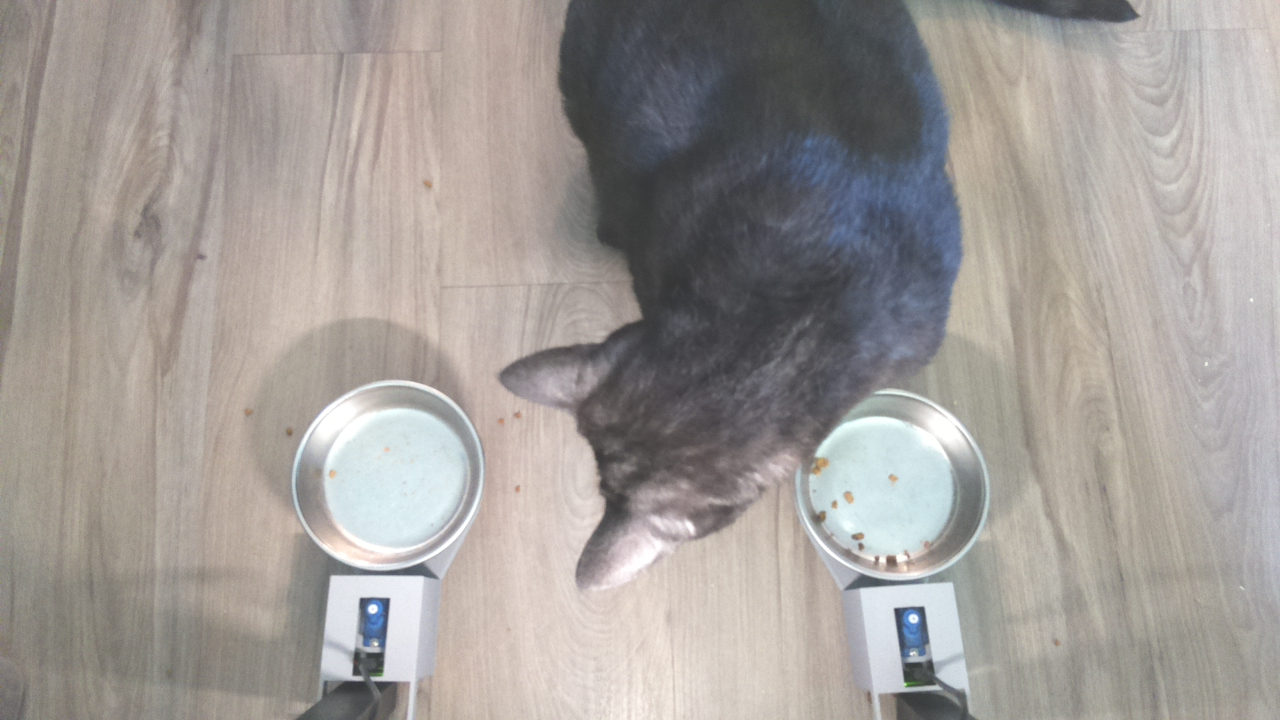open_bowl: (292, 372, 495, 580), (792, 387, 990, 586)
